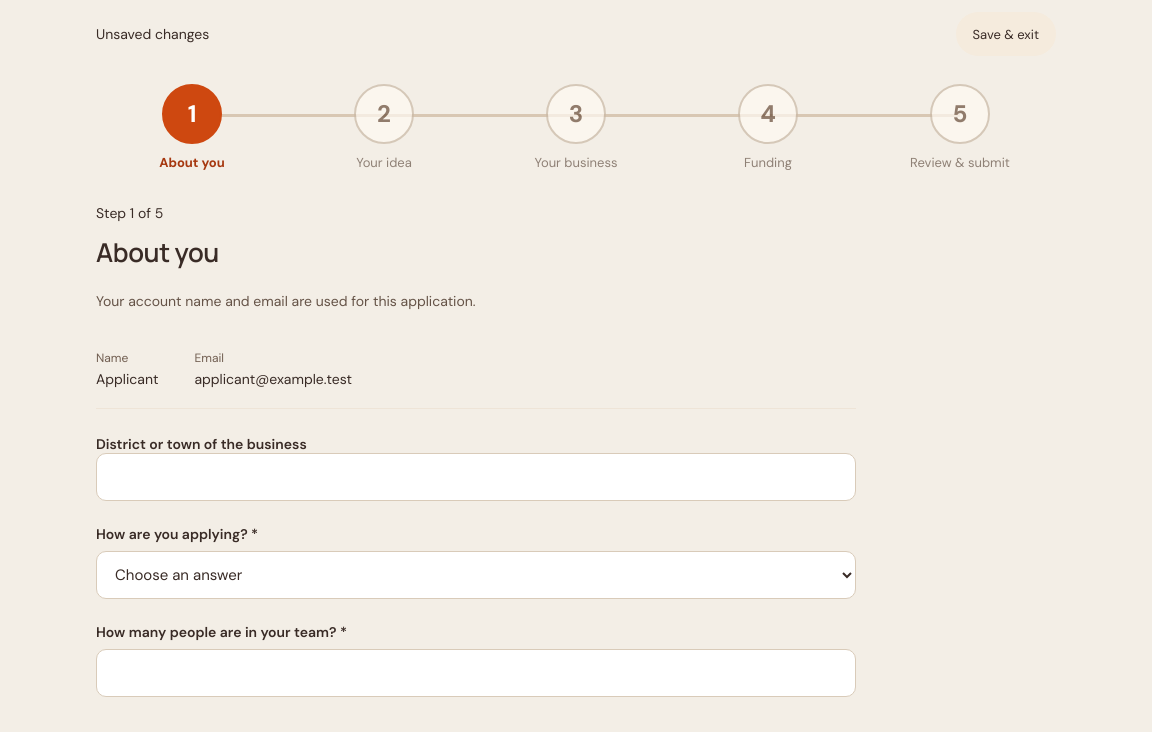
it: keeps the step number separate from its label and hides team size for individuals
Expected: the number field labelled "How many people are in your team? *" is shown, x1=96 y1=649 x2=856 y2=697
Select "Individual" in the dropdown labelled "How are you applying? *": (476, 575) x1=96 y1=551 x2=856 y2=599
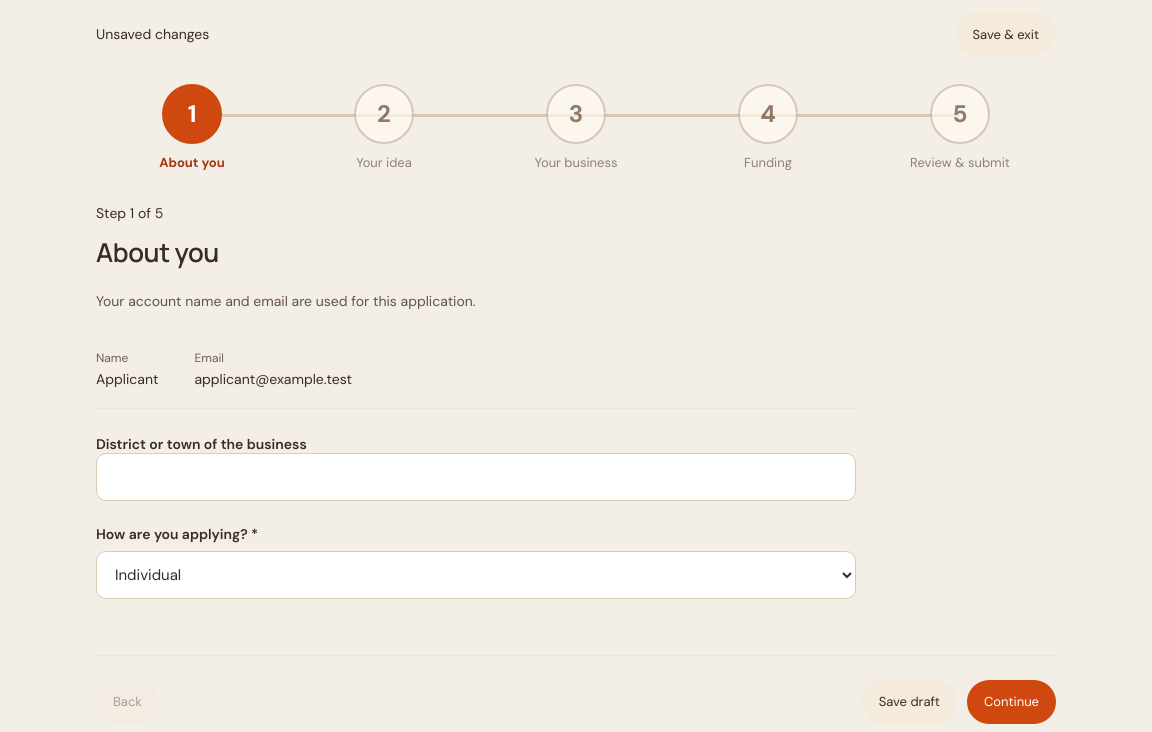
Expected: the label labelled "How many people are in your team? *" is gone
Select "Group" in the dropdown labelled "How are you applying? *": (476, 575) x1=96 y1=551 x2=856 y2=599
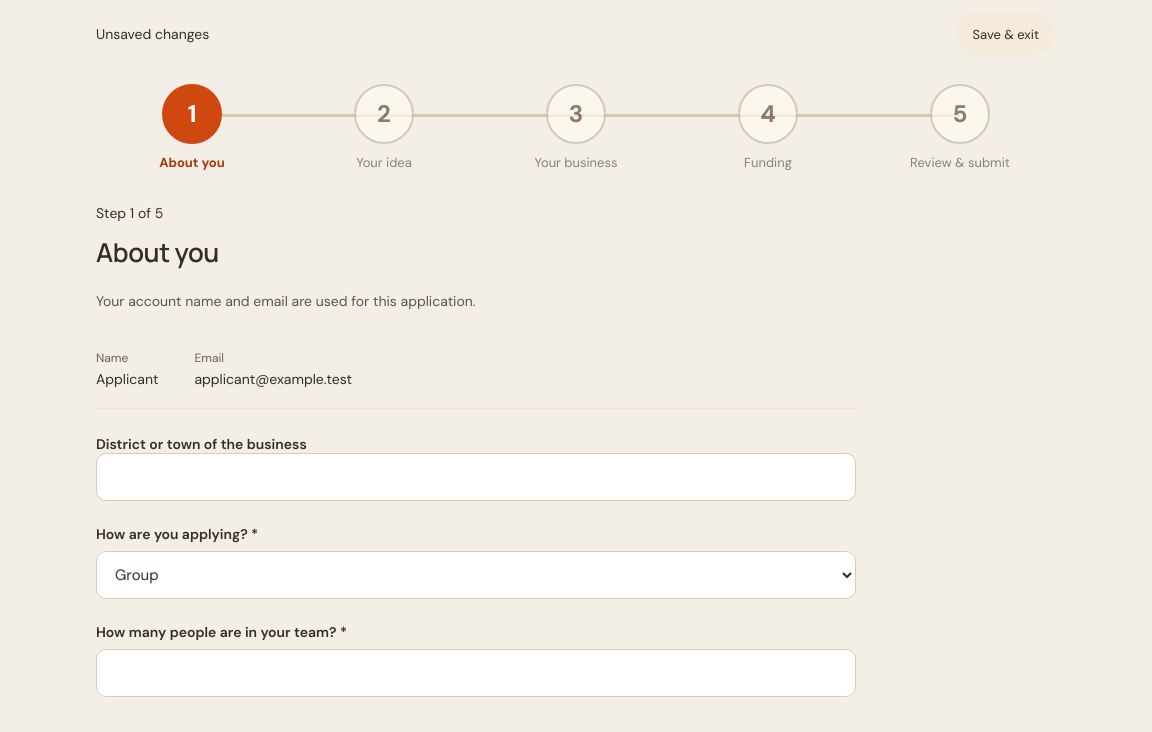
Expected: the number field labelled "How many people are in your team? *" is shown, x1=96 y1=649 x2=856 y2=697
